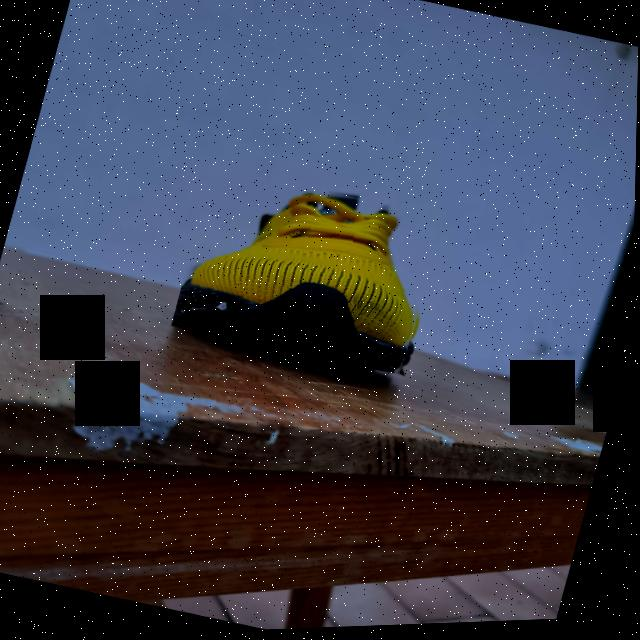shoe: (171, 159, 451, 386)
